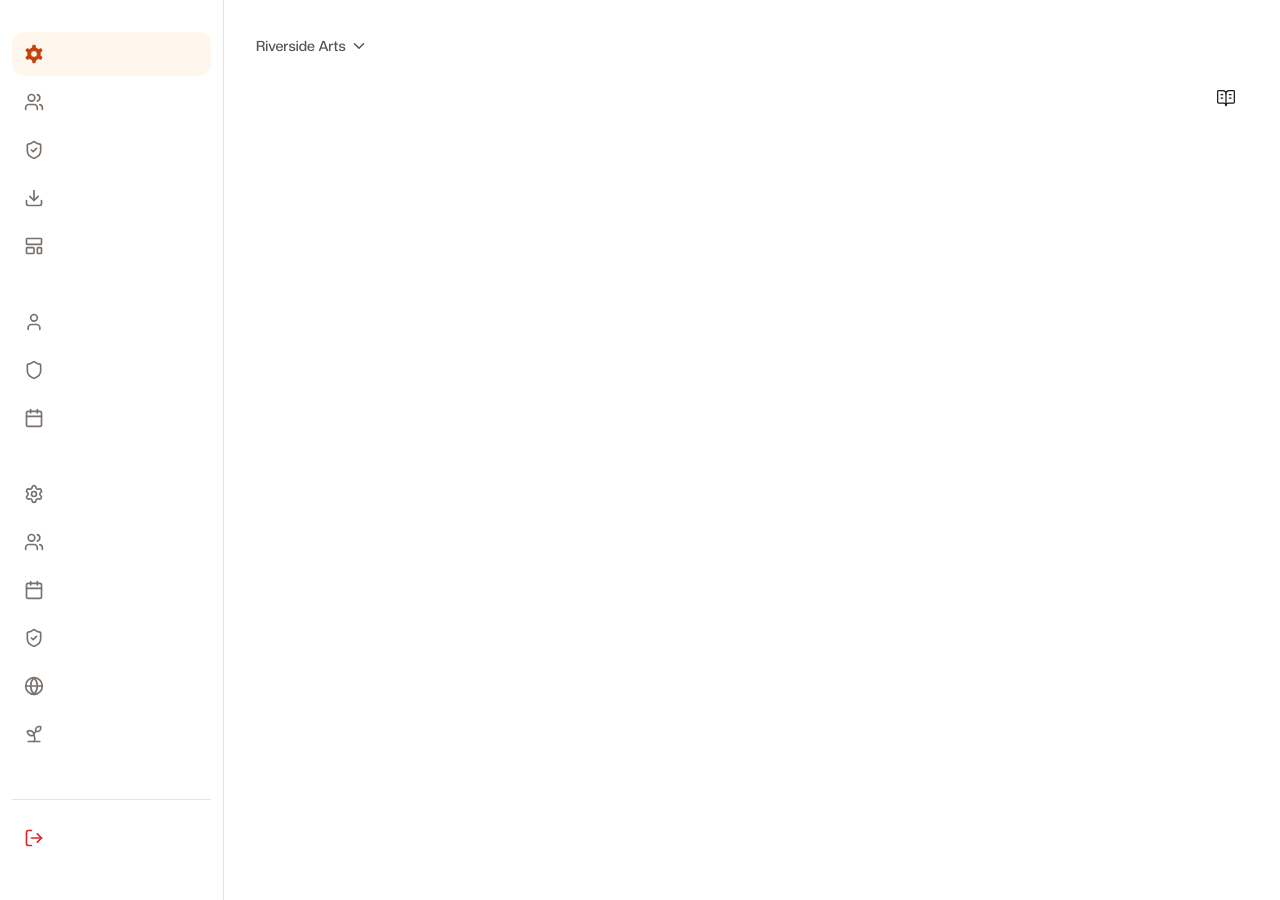
Scenario: settings layout › renders no Account or Instance rows in the calendar switcher
The width and height of the screenshot is (1280, 900).
Click the button with class "calendar-switcher" at point(312, 46), box [256,24,368,68]
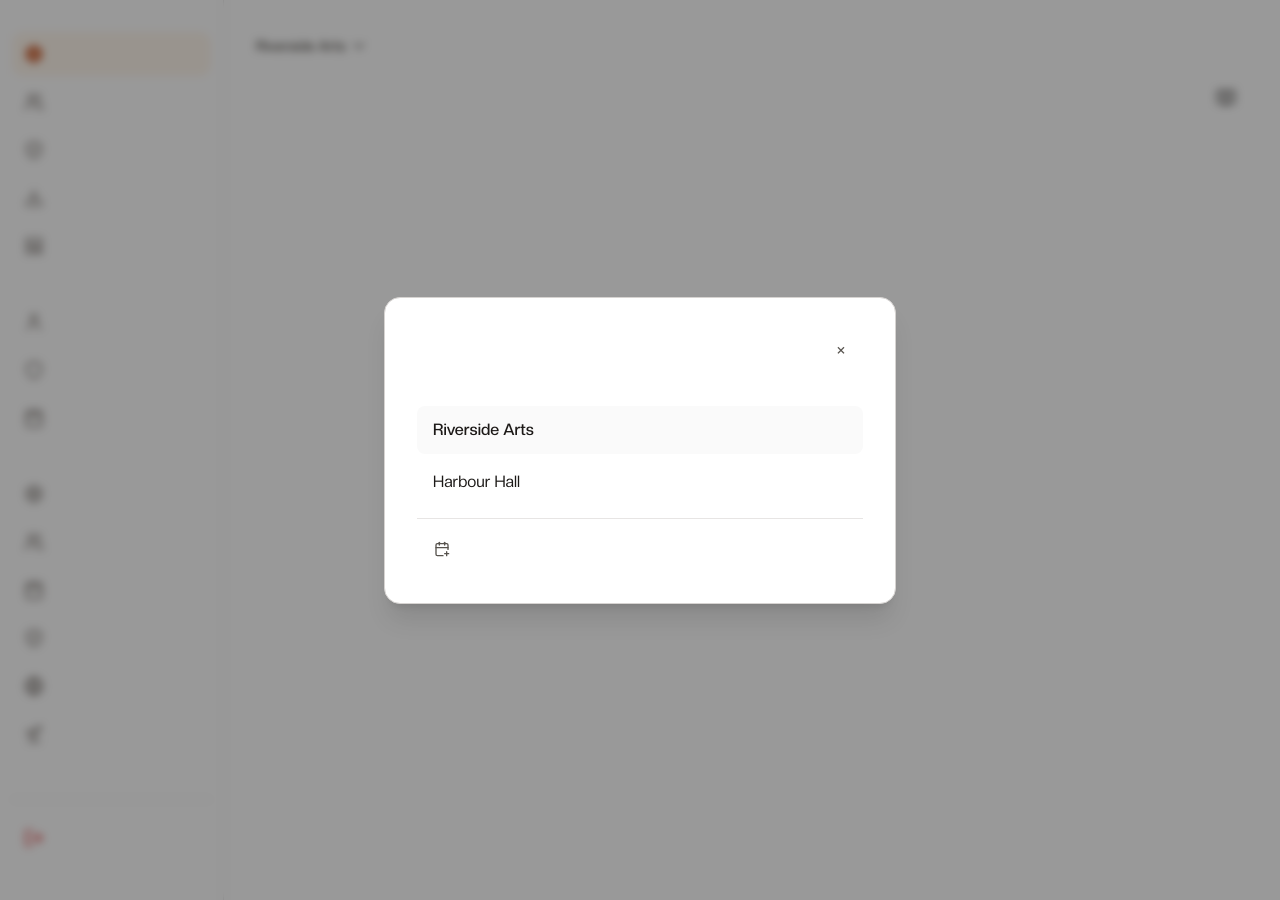
Result: the list item "Harbour Hall" is shown at [433,472,520,490]
